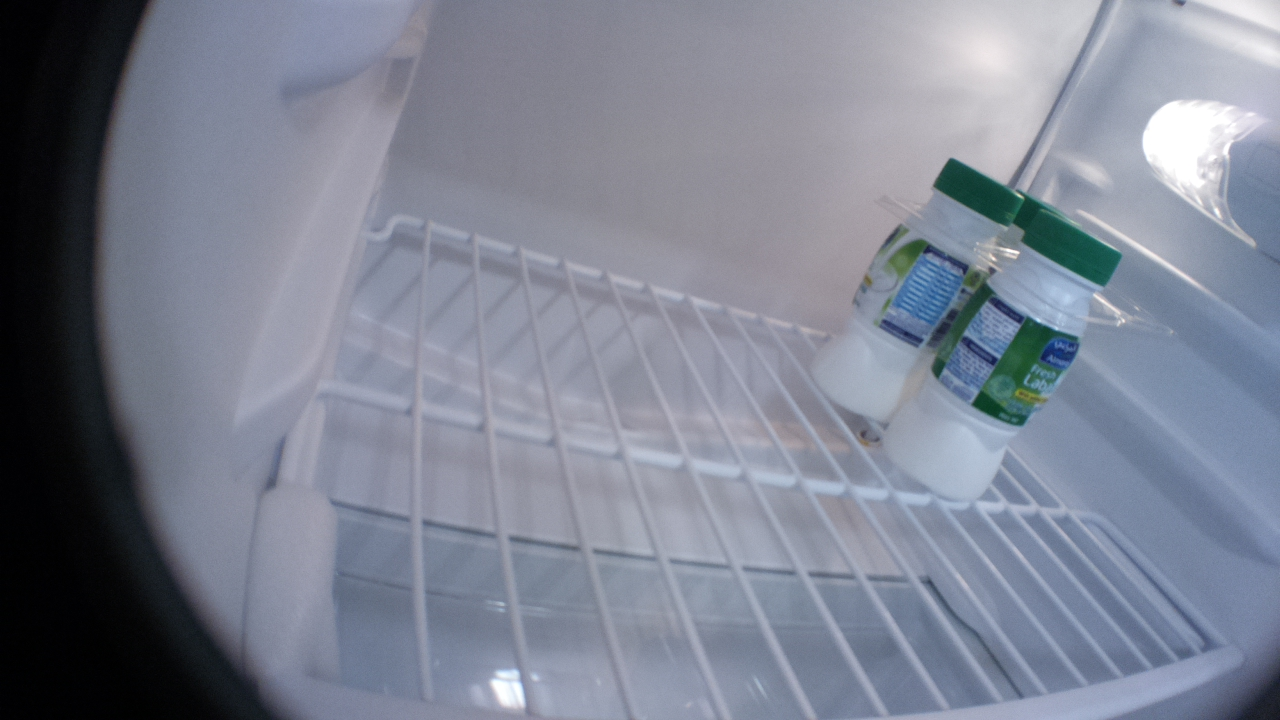laban: (883, 208, 1124, 499), (808, 156, 1024, 423), (997, 175, 1090, 260)
